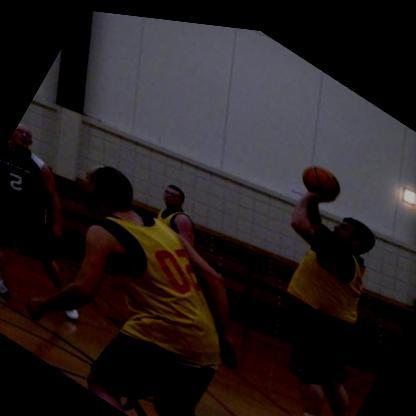basketball: (297, 150, 345, 199)
